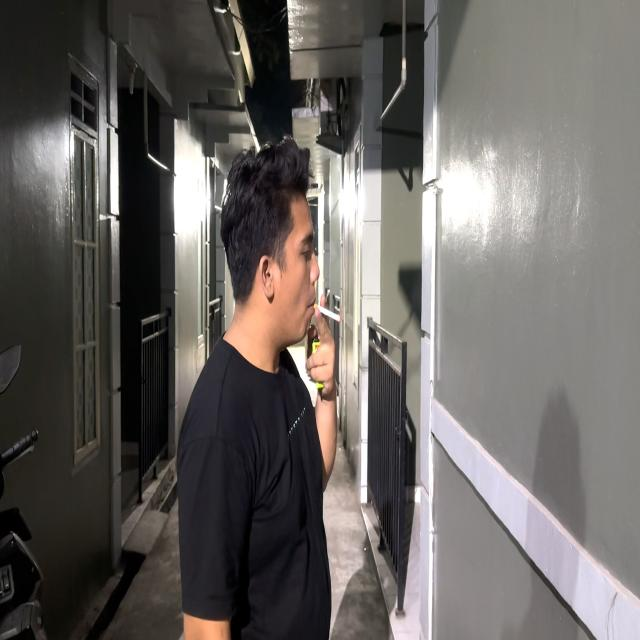cigarette: (305, 296, 348, 328)
smoking: (211, 124, 356, 500)
